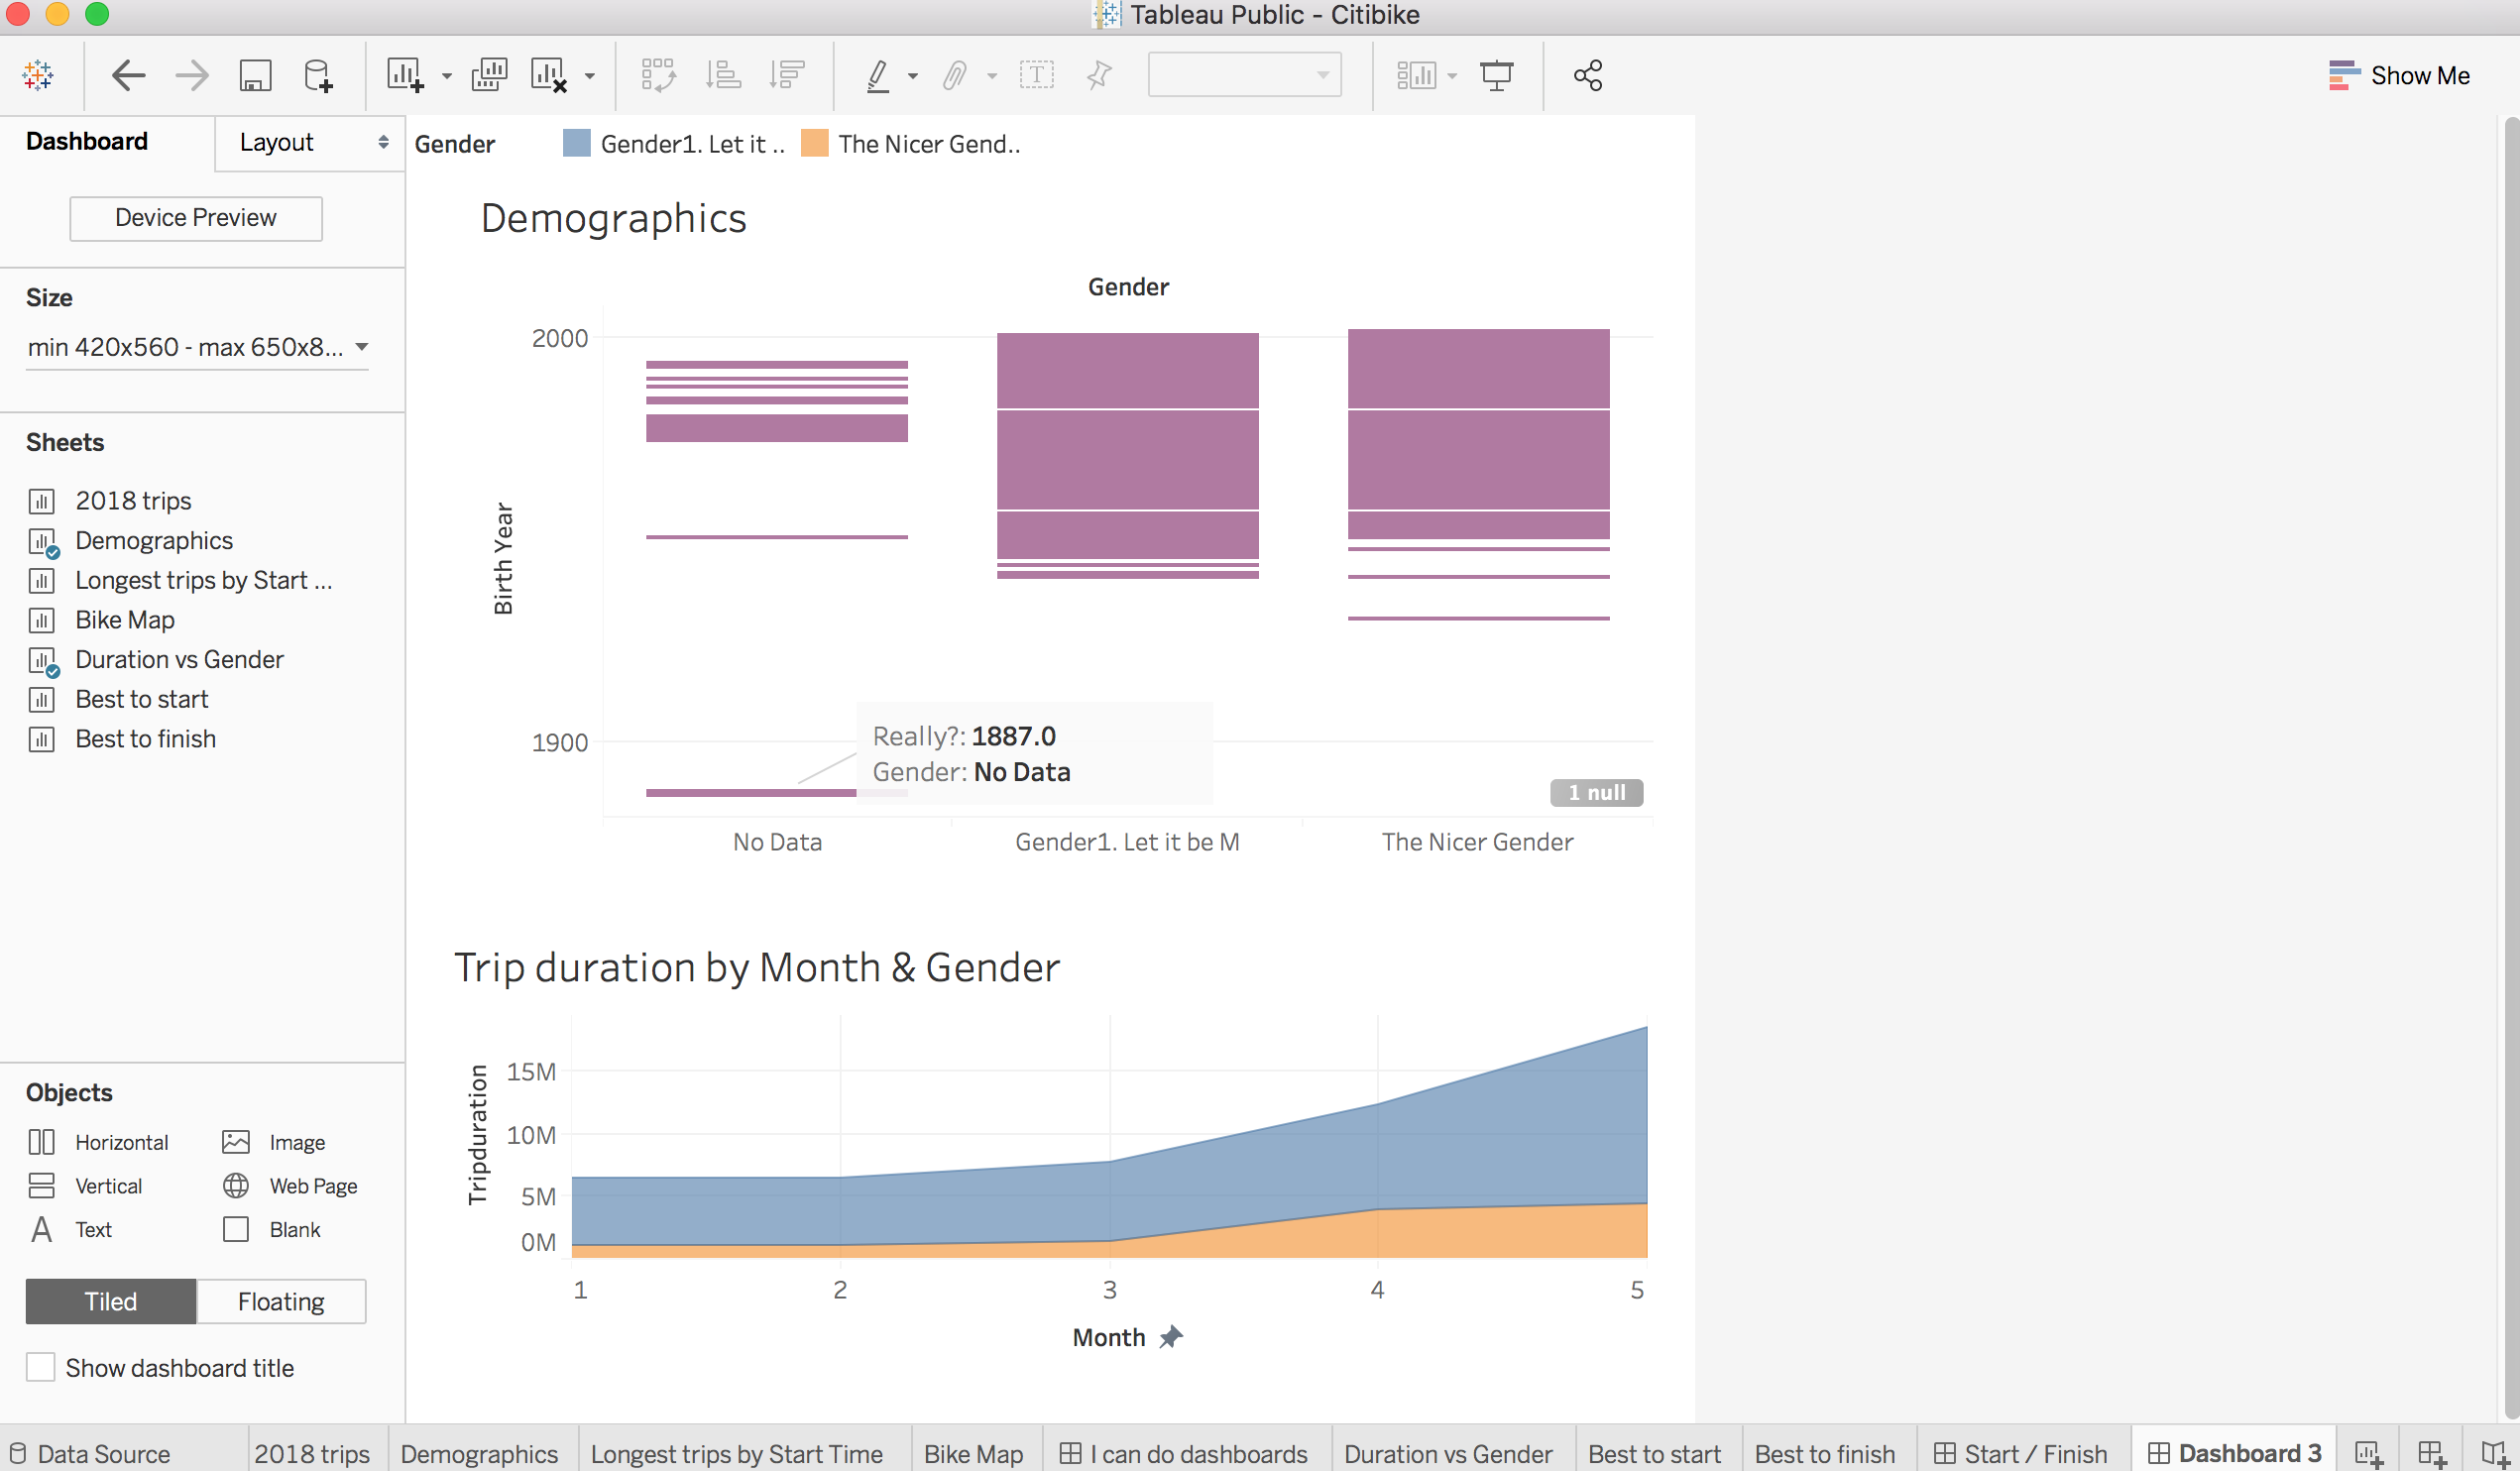

The page's visual inventory and layout, read from the dashboard file:
{"tool":"tableau","page":{"name":"Dashboard 3","canvas":[650,860],"ordinal":0},"visuals":[{"type":"legend","title":"Duration vs Gender","param":"[federated.0qxcdf61vnch9g1cpqqe617l2v68].[none:gender:ok]","box":[0,0,650,50.8]},{"type":"worksheet","title":"Demographics","mark":"Automatic","rows":["birth year"],"cols":["gender"],"box":[33,43,596,470.4]},{"type":"worksheet","title":"Duration vs Gender","mark":"Area","rows":["tripduration"],"cols":["month"],"box":[20,535.5,606,288]}]}

Visuals, with their boxes on the page's 650x860 design canvas (x1, y1, x2, y2). These are canvas units, not pixel positions in the 2520x1471 screenshot, which may show the page scaled, cropped or inside an application window:
"Duration vs Gender" legend: [x1=0, y1=0, x2=650, y2=51]
"Demographics" worksheet: [x1=33, y1=43, x2=629, y2=513]
"Duration vs Gender" worksheet (Area marks): [x1=20, y1=536, x2=626, y2=824]
